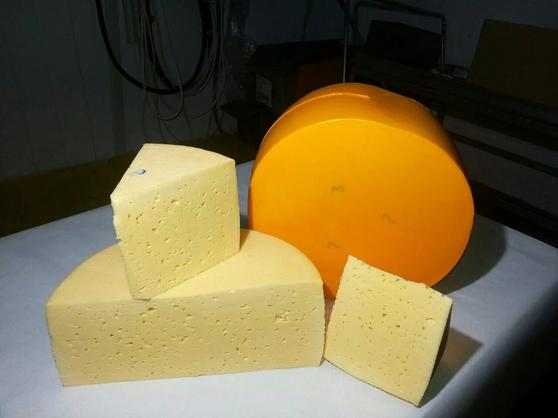cheese: (108, 142, 244, 296), (327, 251, 448, 405)
